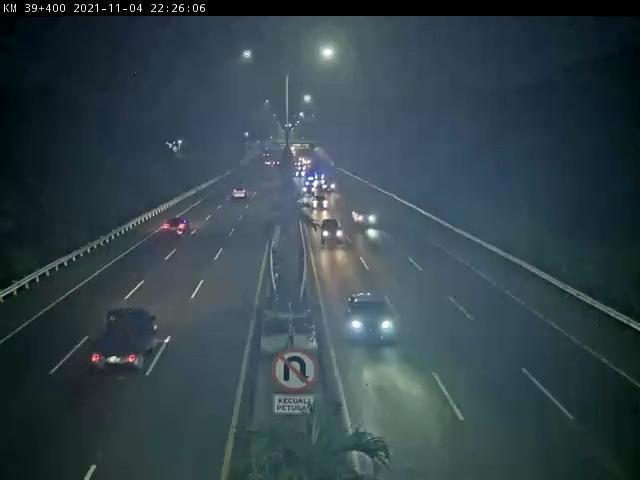car: (338, 290, 405, 353), (321, 222, 349, 246), (164, 220, 191, 243), (352, 211, 383, 228), (314, 197, 337, 218), (229, 186, 254, 205)
truck: (82, 306, 173, 377)
